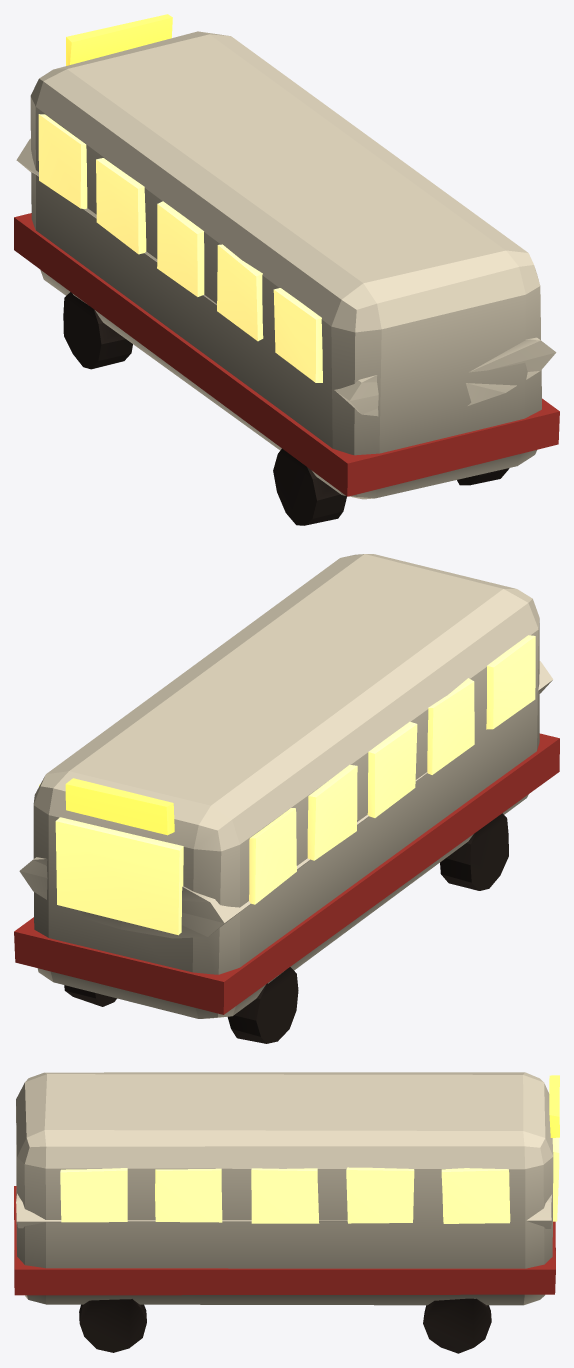
Rendered from find_subway.glb.
3 renders of one model, top to bottom at view 1: azimuth 30°, elevation 25°; view 2: azimuth 150°, elevation 25°; view 3: azimuth 270°, elevation 25°, orthographic. The views are drawn at different scales.
Parts seen in each view (by area): view 1: Subway; view 2: Subway; view 3: Subway.
Boxes of the visible parts, box(x1,y1,x2,y2) form: Subway: box(14, 14, 559, 525); Subway: box(14, 554, 559, 1043); Subway: box(14, 1072, 559, 1353).
Size of the model in its own units: 0.2146 by 0.2546 by 0.5708.
